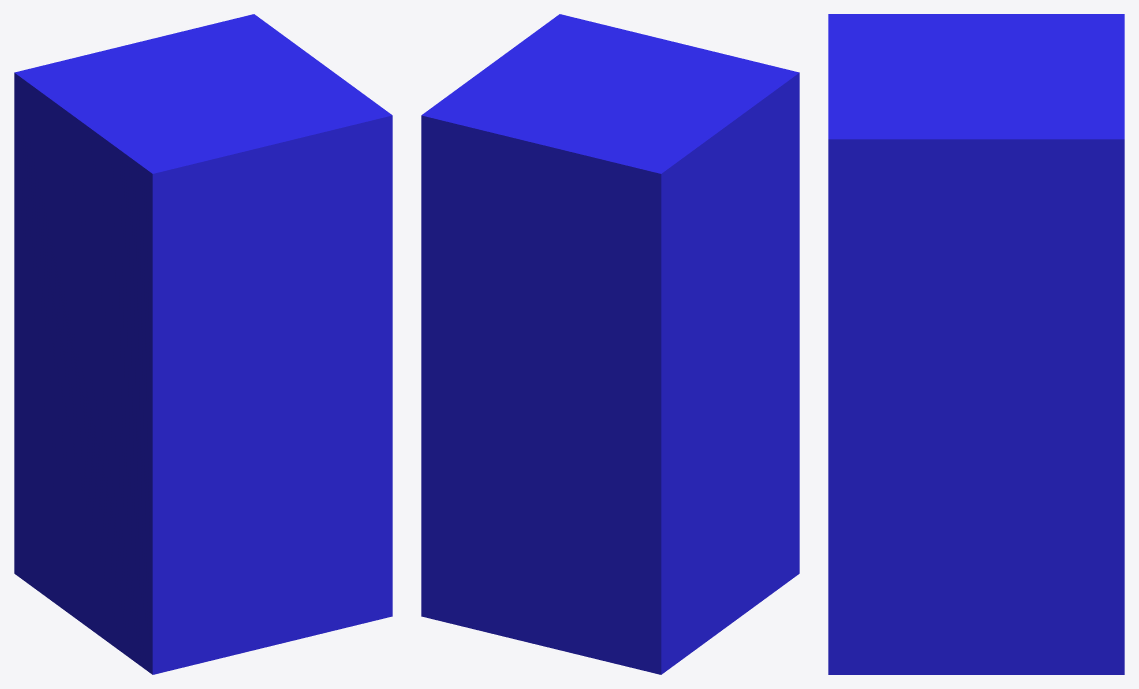
The model's file is RoyalBlueThinEdge.fbx.
3 views of the same model, side by side, from view 1: azimuth 30°, elevation 25°; view 2: azimuth 150°, elevation 25°; view 3: azimuth 270°, elevation 25° (orthographic). The views are drawn at different scales.
Parts seen in each view (by area): view 1: 4.BODY.green.018; view 2: 4.BODY.green.018; view 3: 4.BODY.green.018.
Boxes of the visible parts, x1=… form: 4.BODY.green.018: x1=14, y1=14, x2=392, y2=674; 4.BODY.green.018: x1=421, y1=14, x2=799, y2=674; 4.BODY.green.018: x1=828, y1=14, x2=1124, y2=674.
Bounding box in the file's own units: 100 × 201 × 101.
